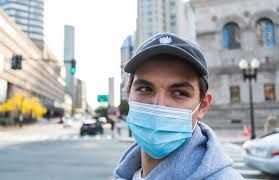with-mask: (124, 50, 214, 165)
